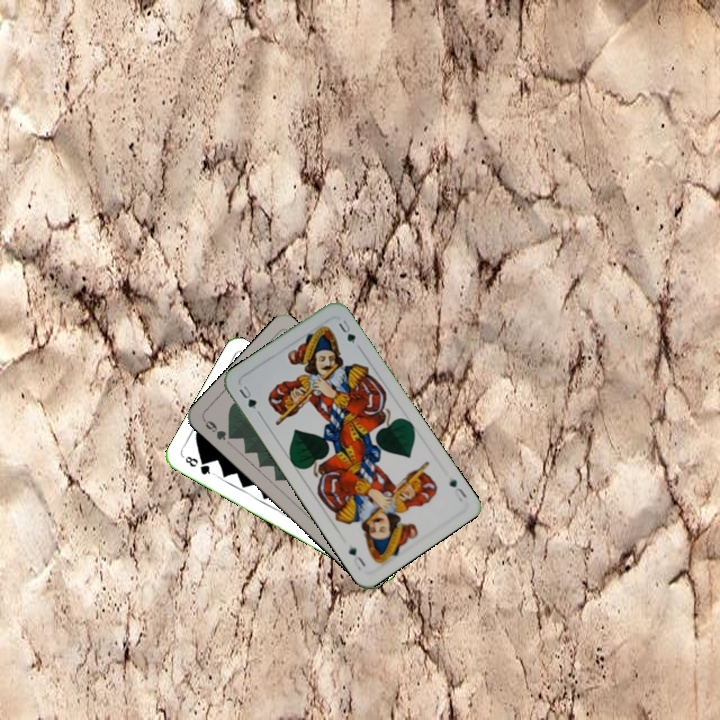G8: (181, 452, 217, 477)
G9: (200, 416, 237, 443)
GU: (235, 381, 262, 417), (445, 474, 469, 505)
